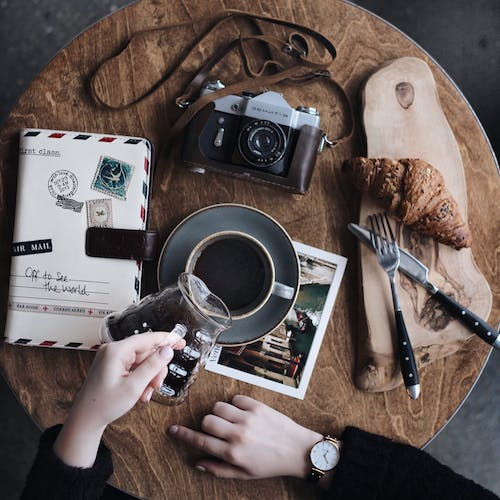knife: (346, 221, 500, 353)
